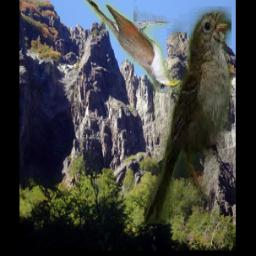Cuckoo: (80, 0, 180, 93)
Sparrow: (144, 8, 231, 225)
